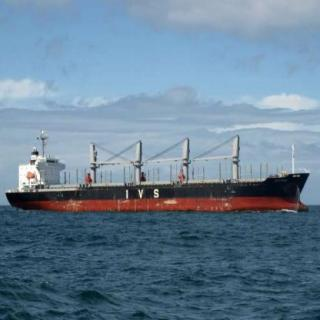Bulk Carrier: (0, 151, 306, 215)
